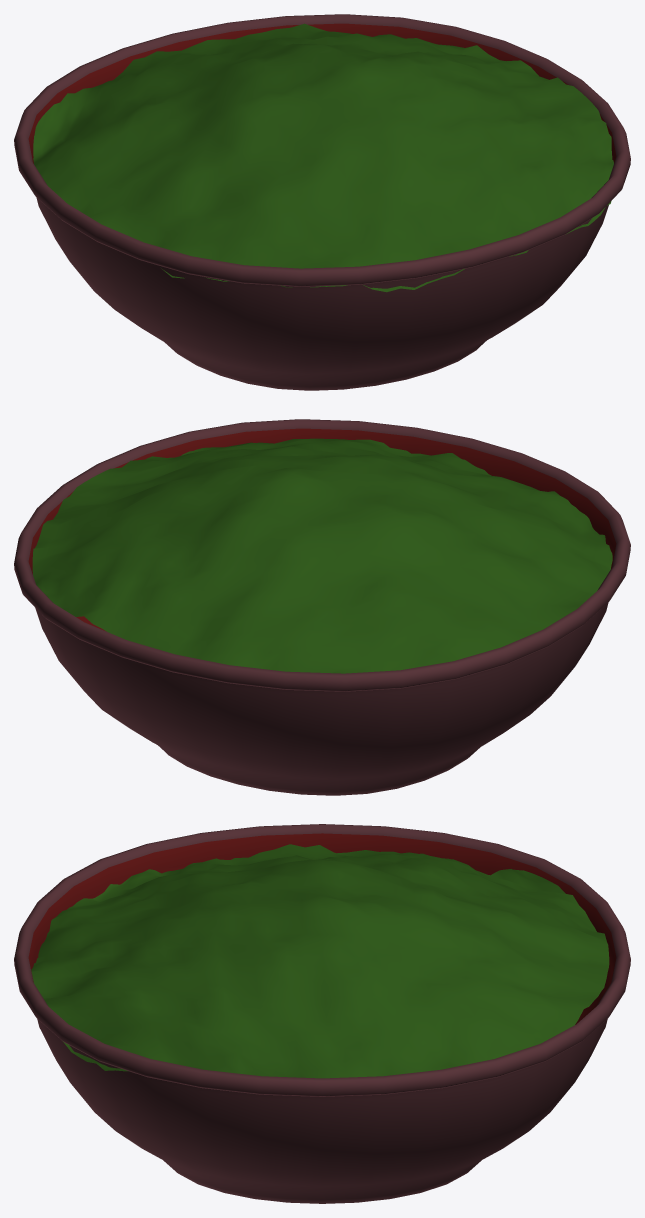
File: gomen.glb
3 renders of one model, top to bottom at view 1: azimuth 30°, elevation 25°; view 2: azimuth 150°, elevation 25°; view 3: azimuth 270°, elevation 25°, orthographic.
Parts seen in each view (by area): view 1: Kitfo, Shekla; view 2: Kitfo, Shekla; view 3: Kitfo, Shekla.
Part boxes in pixels (left/top/right/bottom): Kitfo: left=33, top=23, right=613, bottom=292; Shekla: left=14, top=14, right=630, bottom=390; Kitfo: left=32, top=438, right=612, bottom=673; Shekla: left=14, top=419, right=630, bottom=795; Kitfo: left=31, top=844, right=609, bottom=1078; Shekla: left=14, top=824, right=630, bottom=1203.
Size of the model in its own units: 3.22 by 1.42 by 3.22.
